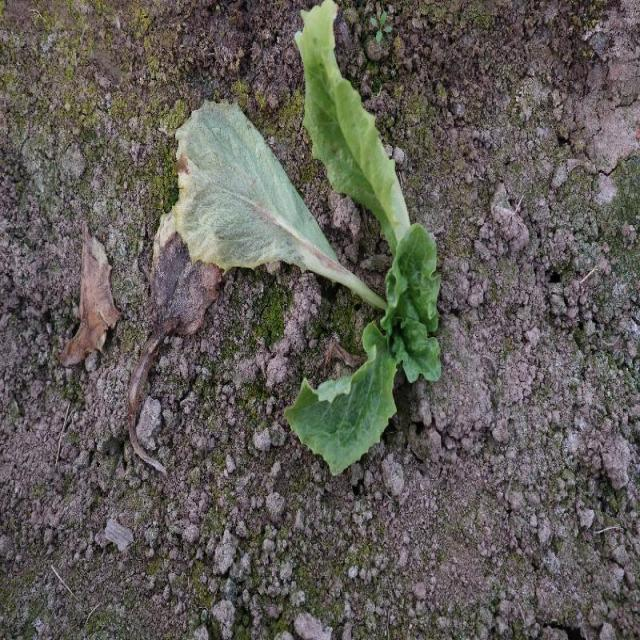crop: (299, 21, 437, 468)
